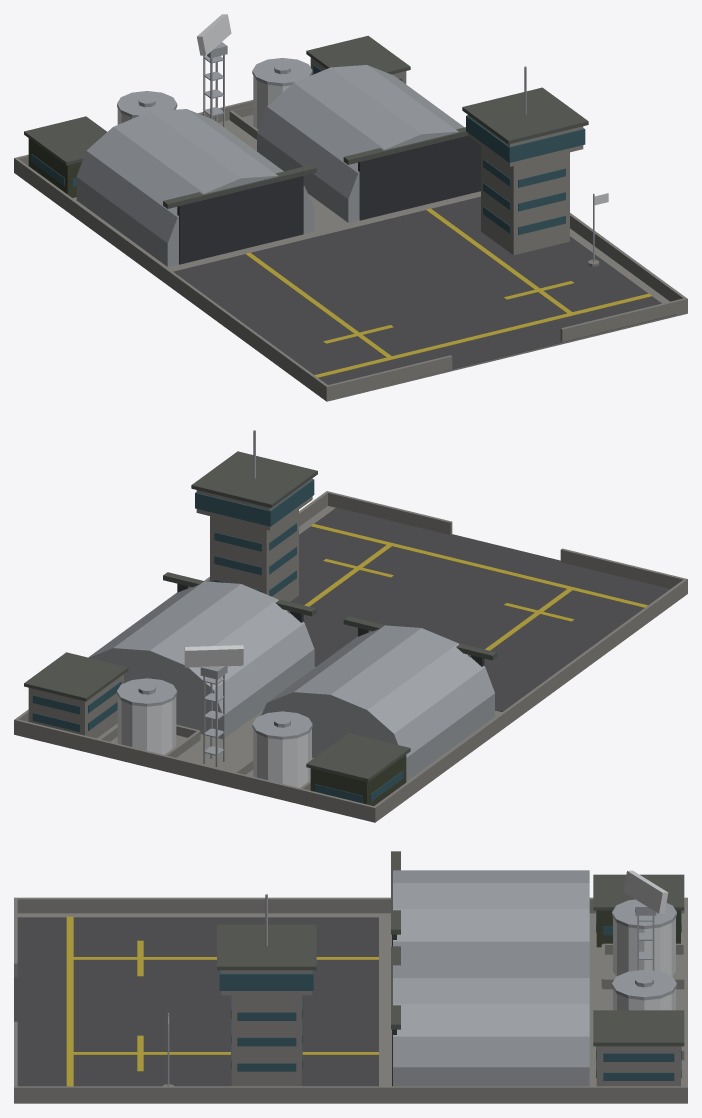
File: Building_AirBase.obj
The picture shows the model from 3 angles, top to bottom: view 1: azimuth 30°, elevation 25°; view 2: azimuth 150°, elevation 25°; view 3: azimuth 270°, elevation 25°; orthographic projection. The views are drawn at different scales.
Bounding box in the file's own units: 64 × 29.1 × 96.
